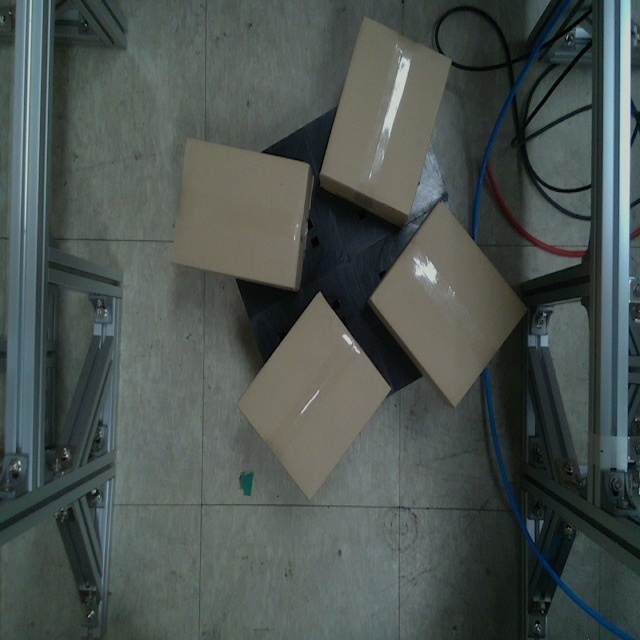box: (369, 198, 530, 408), (235, 291, 393, 501), (318, 14, 453, 216), (169, 135, 311, 290)
